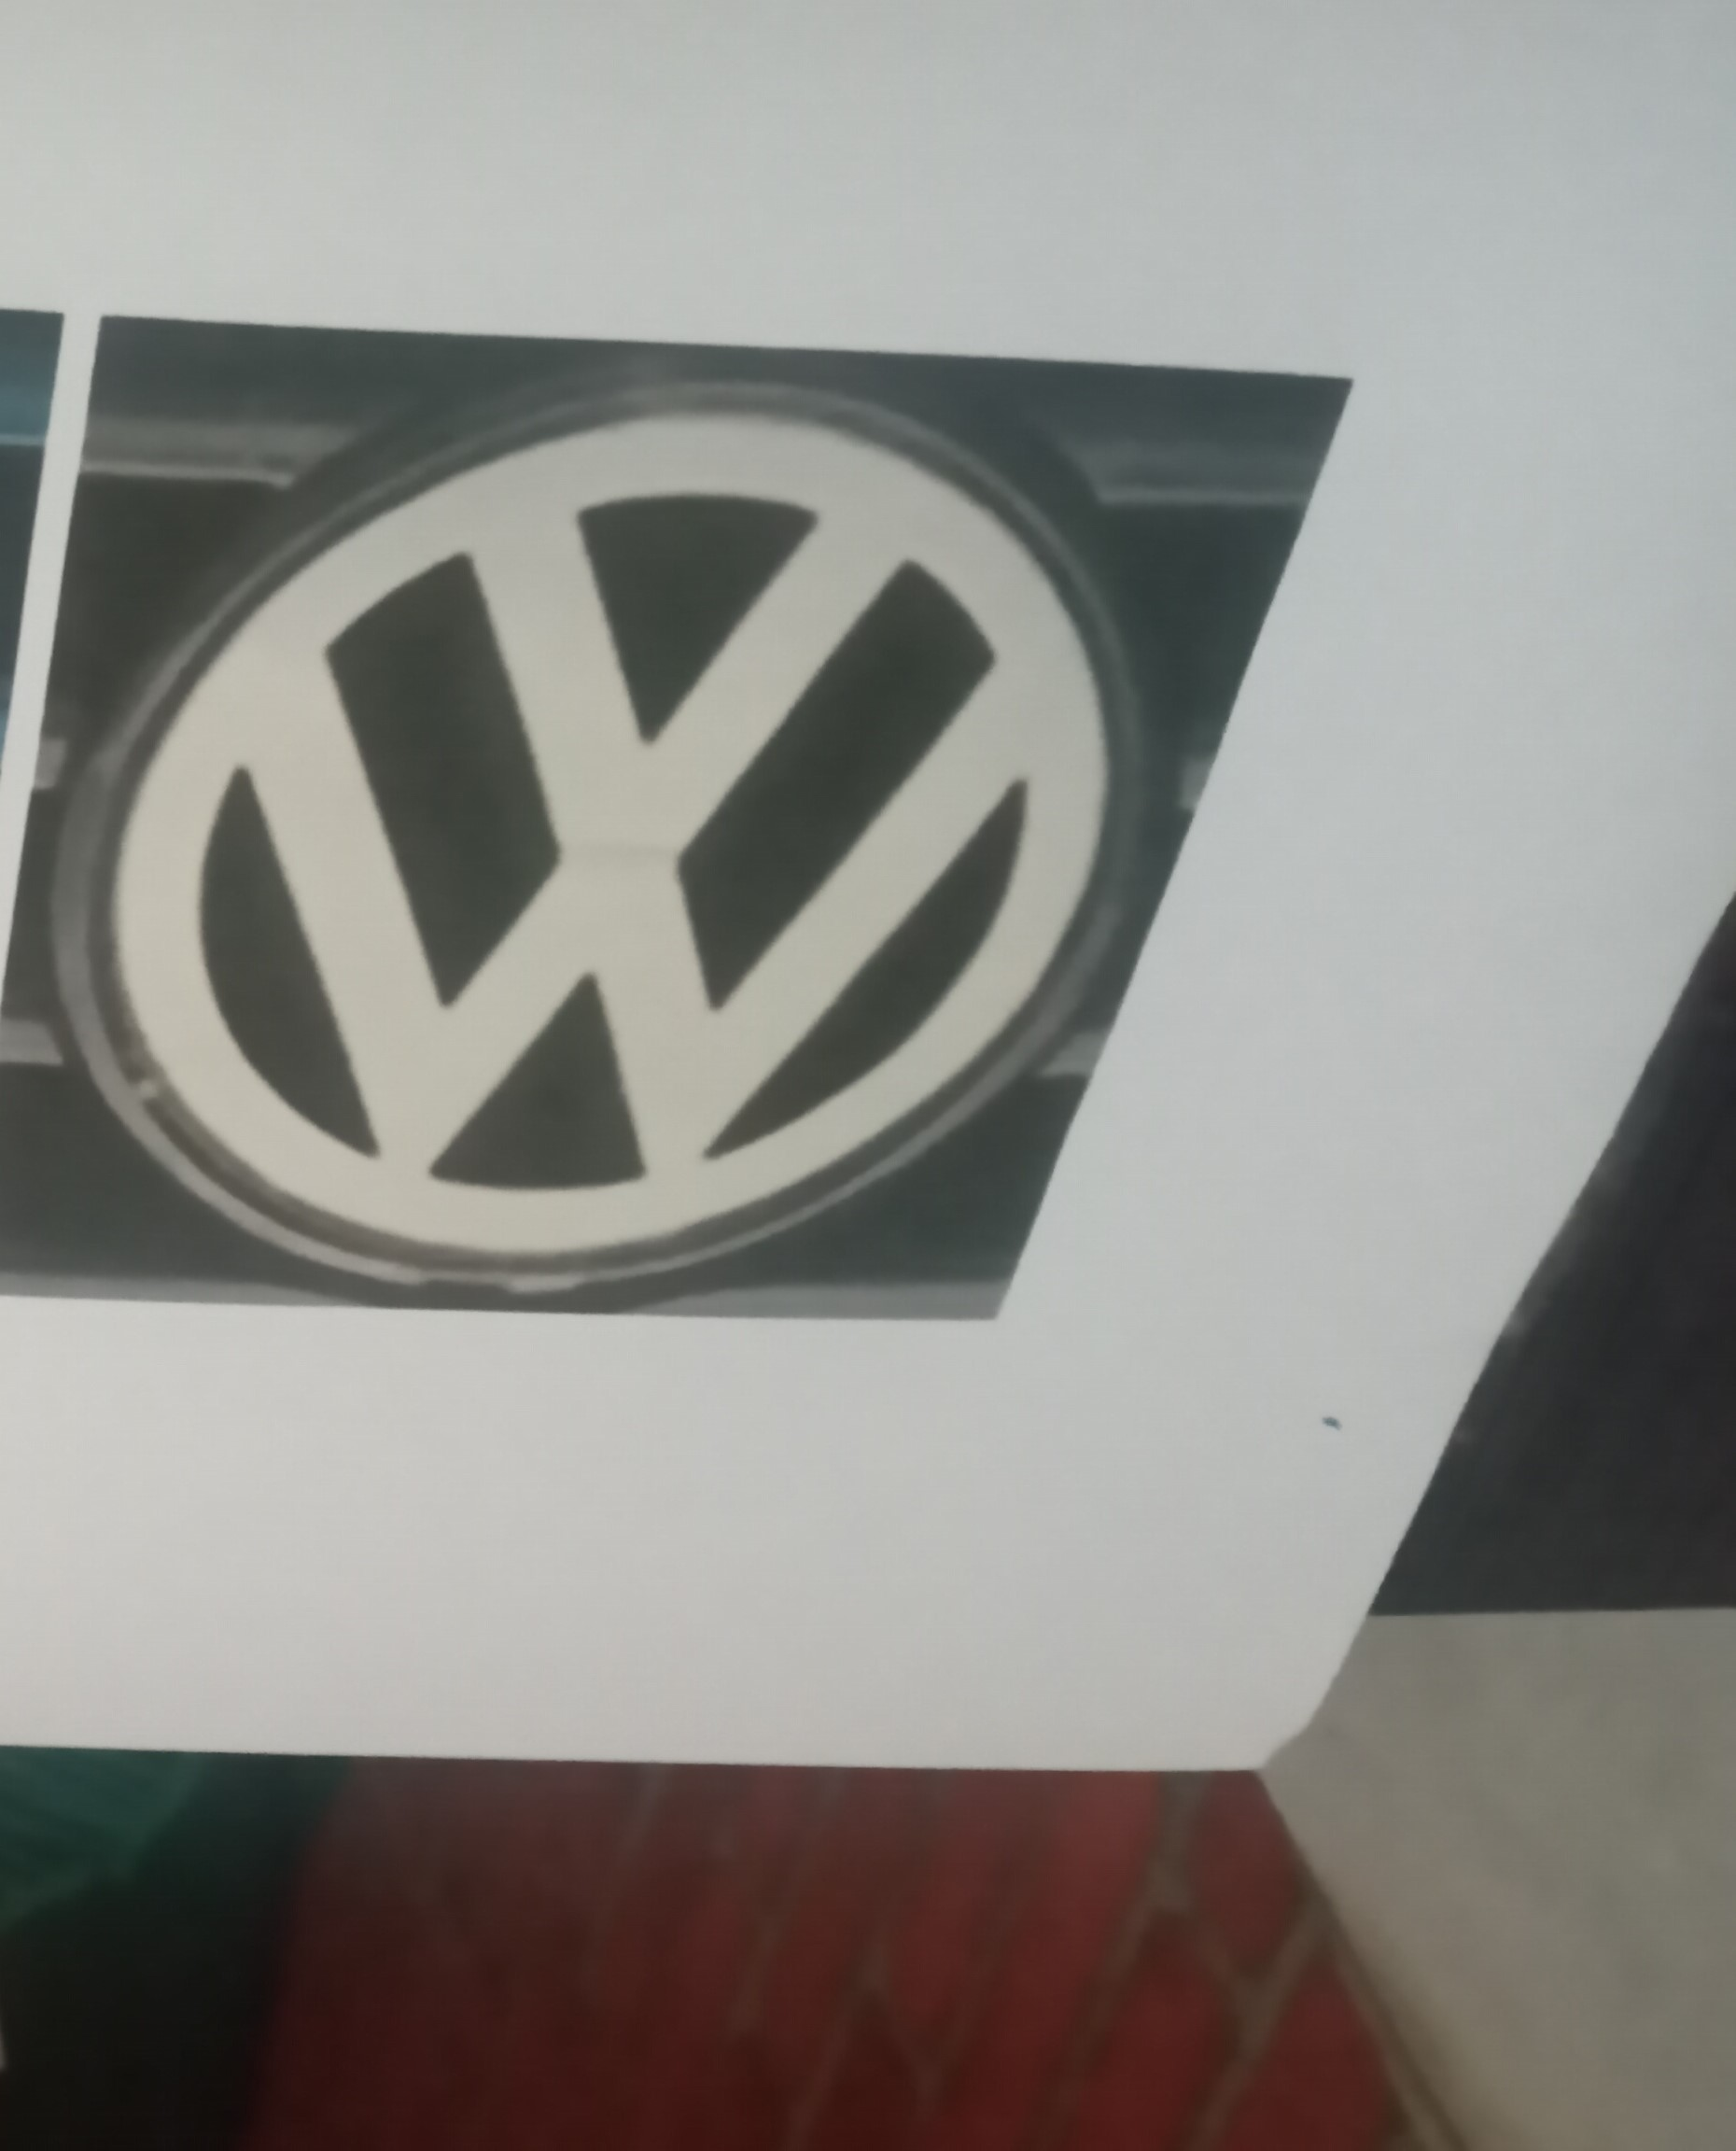Volkswagen: (71, 365, 1144, 1306)
